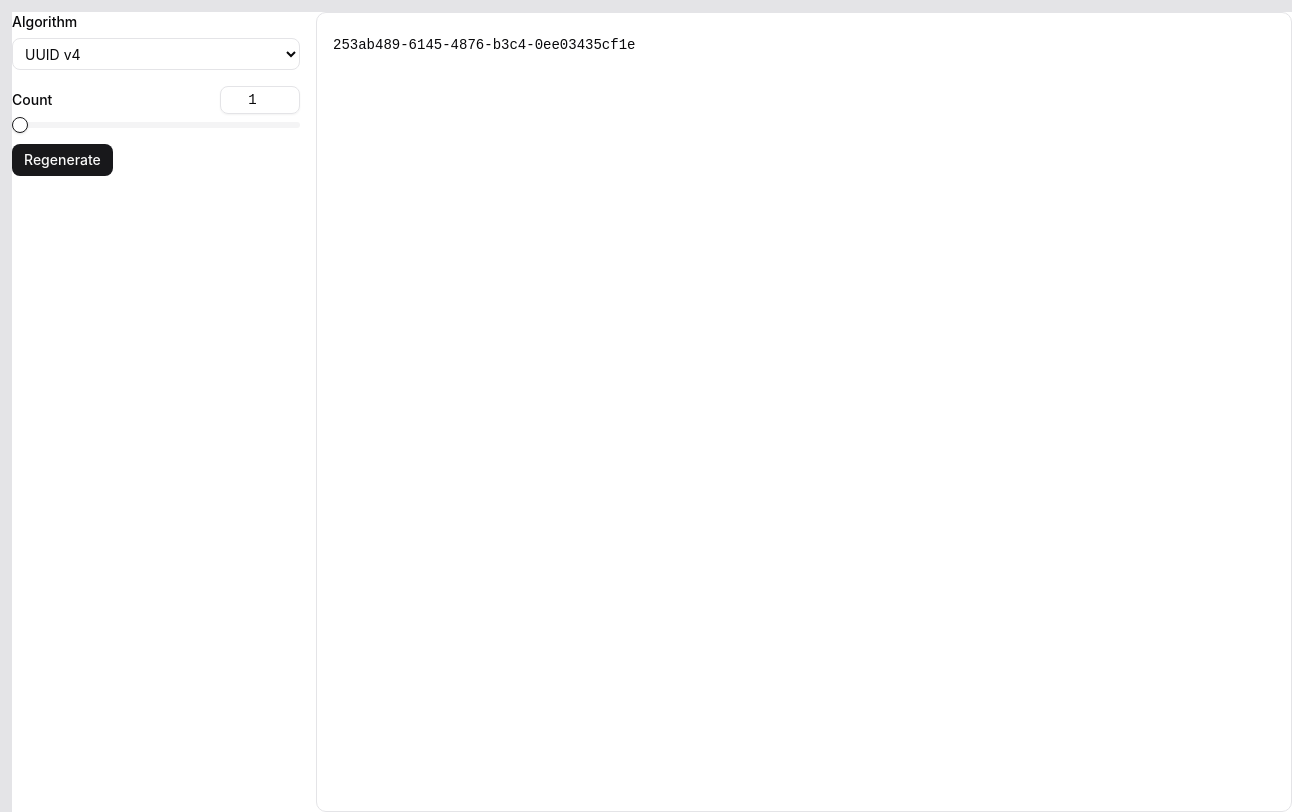
it: count slider updates count and shows bulk copy
The image size is (1292, 812).
Click the slider at (20, 125), box [12,117,28,133]
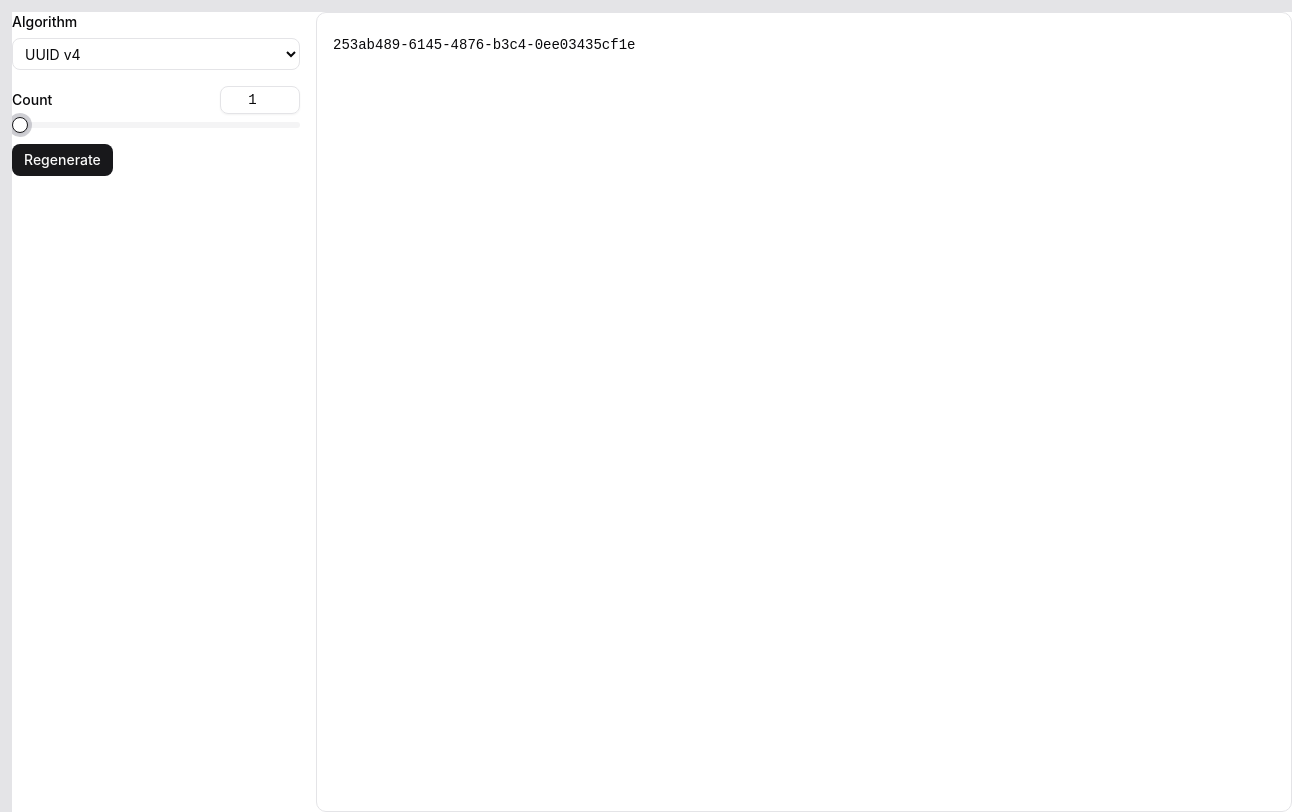
Press ArrowRight in the slider, box [12,117,28,133]
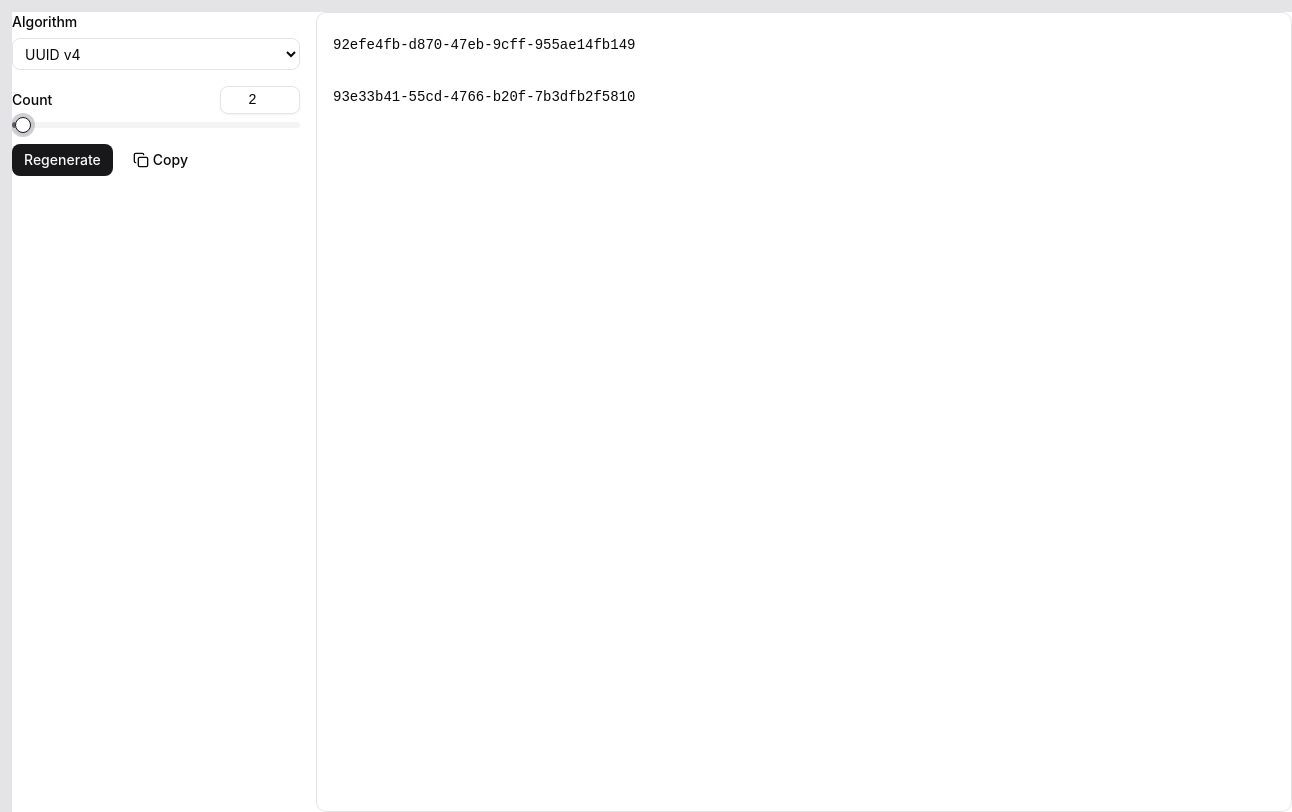
Expected: the text "Copy" is shown, [153,150,188,170]
